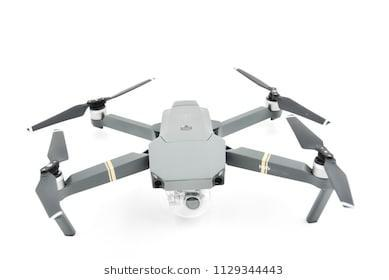drone: (25, 62, 361, 245)
